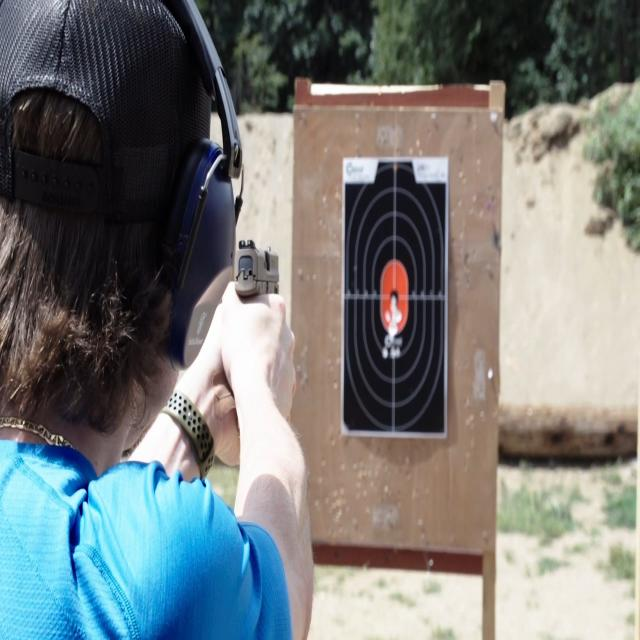Gun_Holder: (204, 228, 298, 409)
Person: (1, 1, 312, 640)
